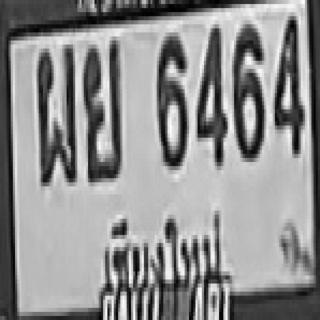A28: (36, 43, 75, 184)
A34: (82, 36, 120, 178)
N04: (196, 20, 226, 162), (273, 12, 303, 154)
N06: (231, 20, 263, 158), (155, 32, 187, 166)
P11: (98, 207, 224, 287)
